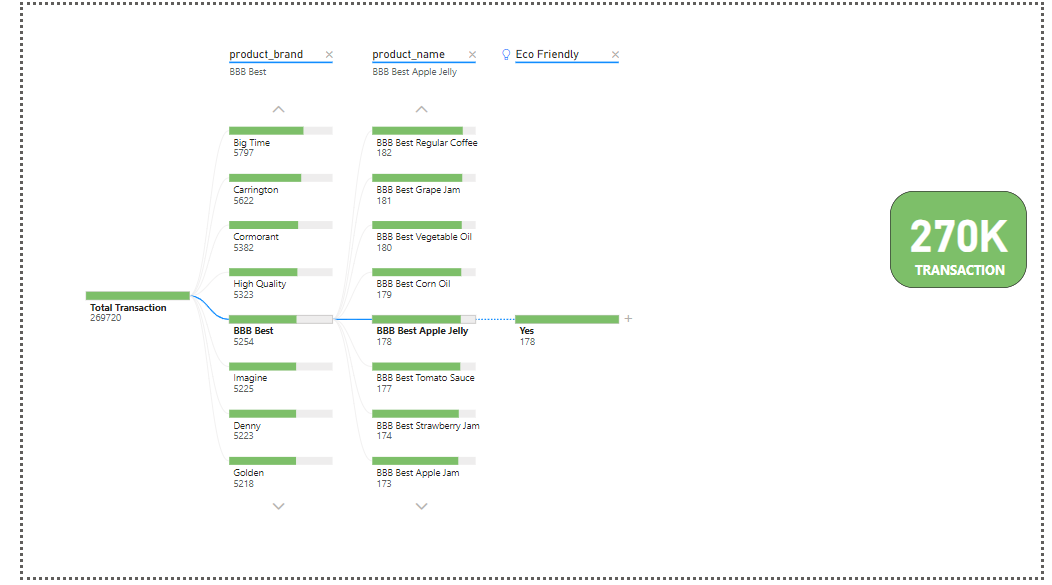

What the dashboard file says about the page in this screenshot:
{"tool":"powerbi","page":{"name":"Decomposition Tree","canvas":[1280,720],"ordinal":6},"visuals":[{"type":"decompositionTreeVisual","fields":{"Analyze":["Measure Table.Total Transaction"],"ExplainBy":["Product Lookup.product_brand","Product Lookup.product_name","Product Lookup.Eco Friendly","Product Lookup.Health Benifits"]},"box":[48.7,36.5,922.2,636.8],"z":0},{"type":"card","fields":{"Values":["Measure Table.Total Transaction"]},"box":[1090.9,233.2,172.3,121.8],"z":1}]}

Visuals, with their boxes in screenshot pixels (x1, y1, x2, y2), scaled from the page's 1280x720 canvas onto the 1052x585 screenshot:
decompositionTreeVisual - Measure Table.Total Transaction x Product Lookup.product_brand: <box>40,30,798,547</box>
card - Measure Table.Total Transaction: <box>897,189,1038,288</box>
